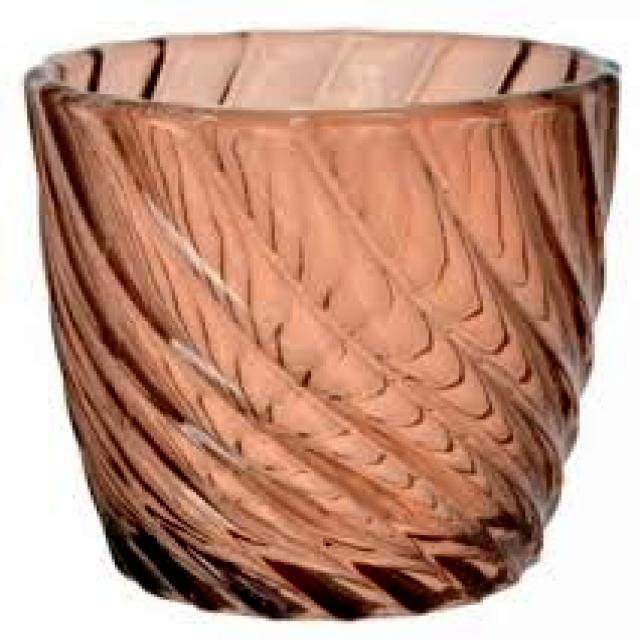Glass: (18, 24, 625, 620)
